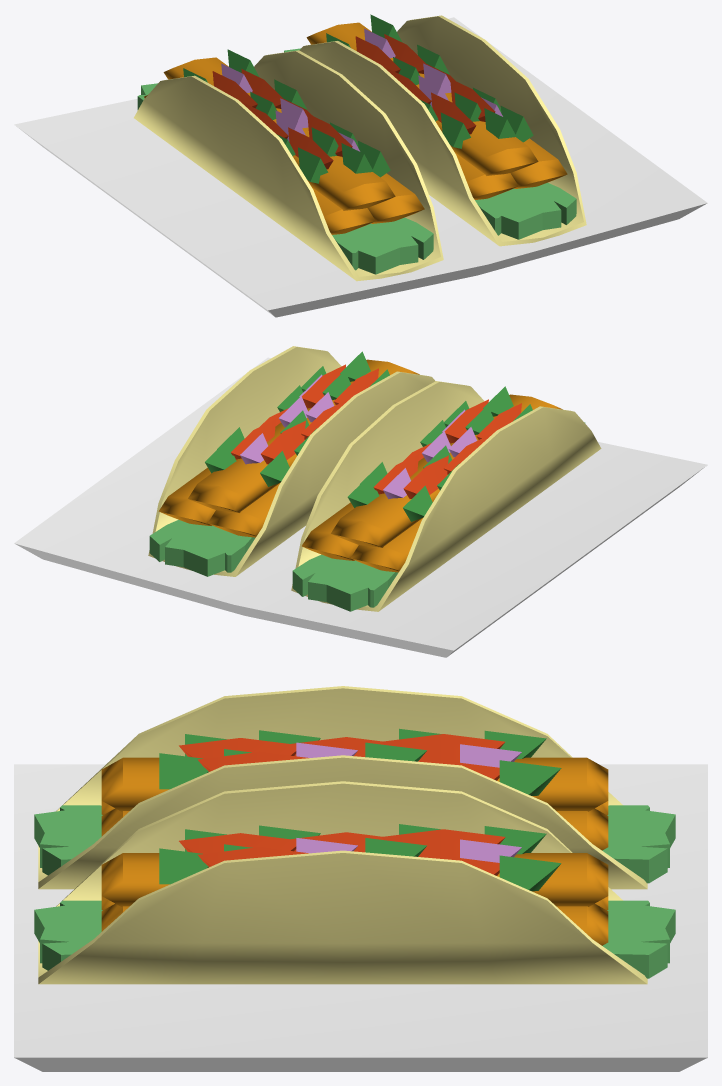
Rendered from MXC_Food_Tacos.fbx.
3 renders of one model, top to bottom at view 1: azimuth 30°, elevation 25°; view 2: azimuth 150°, elevation 25°; view 3: azimuth 270°, elevation 25°, orthographic. The views are drawn at different scales.
Parts seen in each view (by area): view 1: MXC_Food_Tacos; view 2: MXC_Food_Tacos; view 3: MXC_Food_Tacos.
Part boxes in pixels (x1=…): MXC_Food_Tacos: x1=14, y1=14, x2=707, y2=317; MXC_Food_Tacos: x1=14, y1=346, x2=707, y2=657; MXC_Food_Tacos: x1=14, y1=686, x2=707, y2=1071.
Size of the model in its own units: 36.02 by 9.9 by 36.02.
